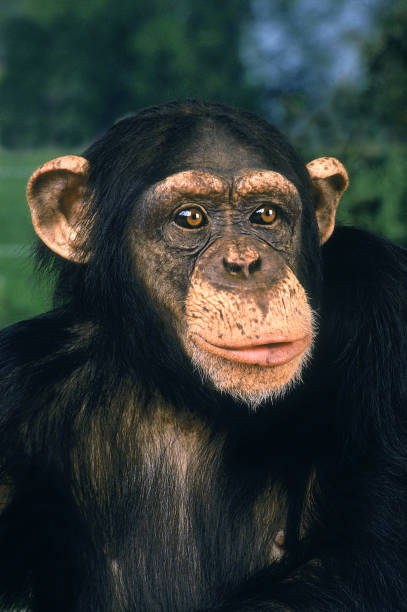chimpanzee: (31, 69, 375, 440)
